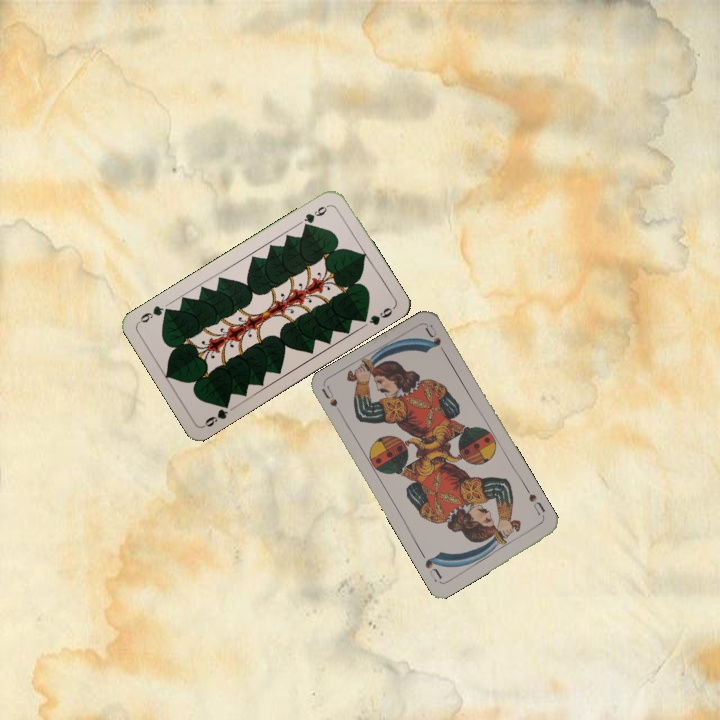G9: (199, 397, 232, 430), (299, 201, 332, 230)
SU: (318, 383, 347, 421), (525, 490, 548, 522)
